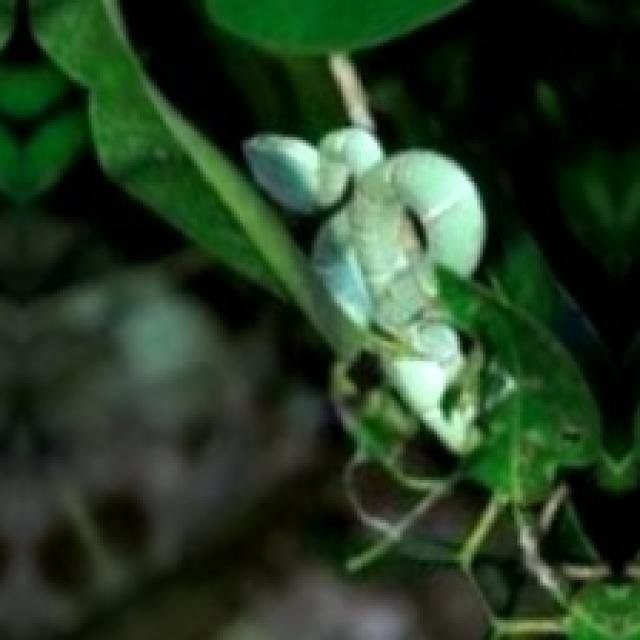north ph temple pitviper: (243, 126, 483, 451)
